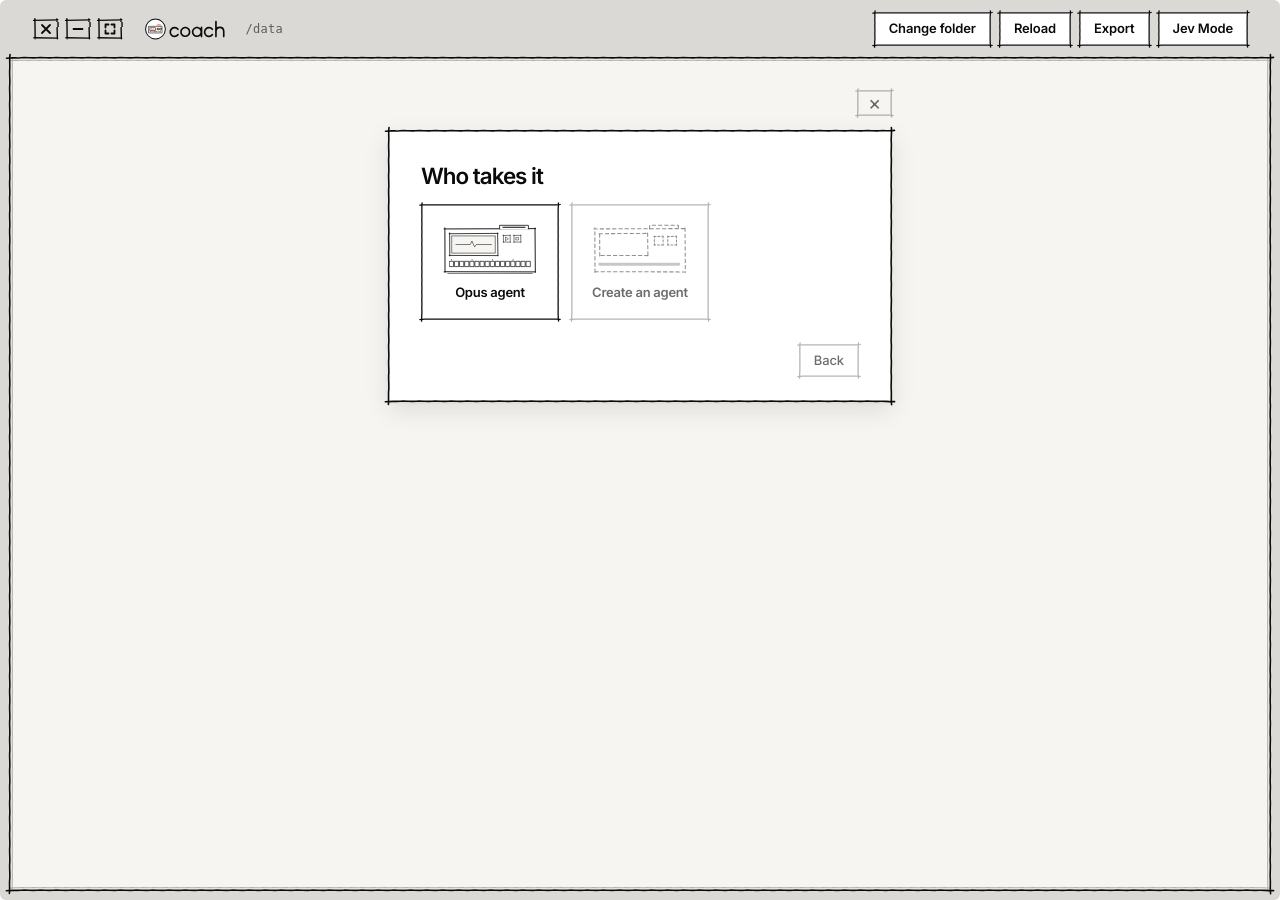
TestDeck › Copy snapshots this machine and the agent's memory into the waiting test
This screenshot has width=1280, height=900.
Click the button "Opus agent" at (490, 262), box [421,204,559,320]
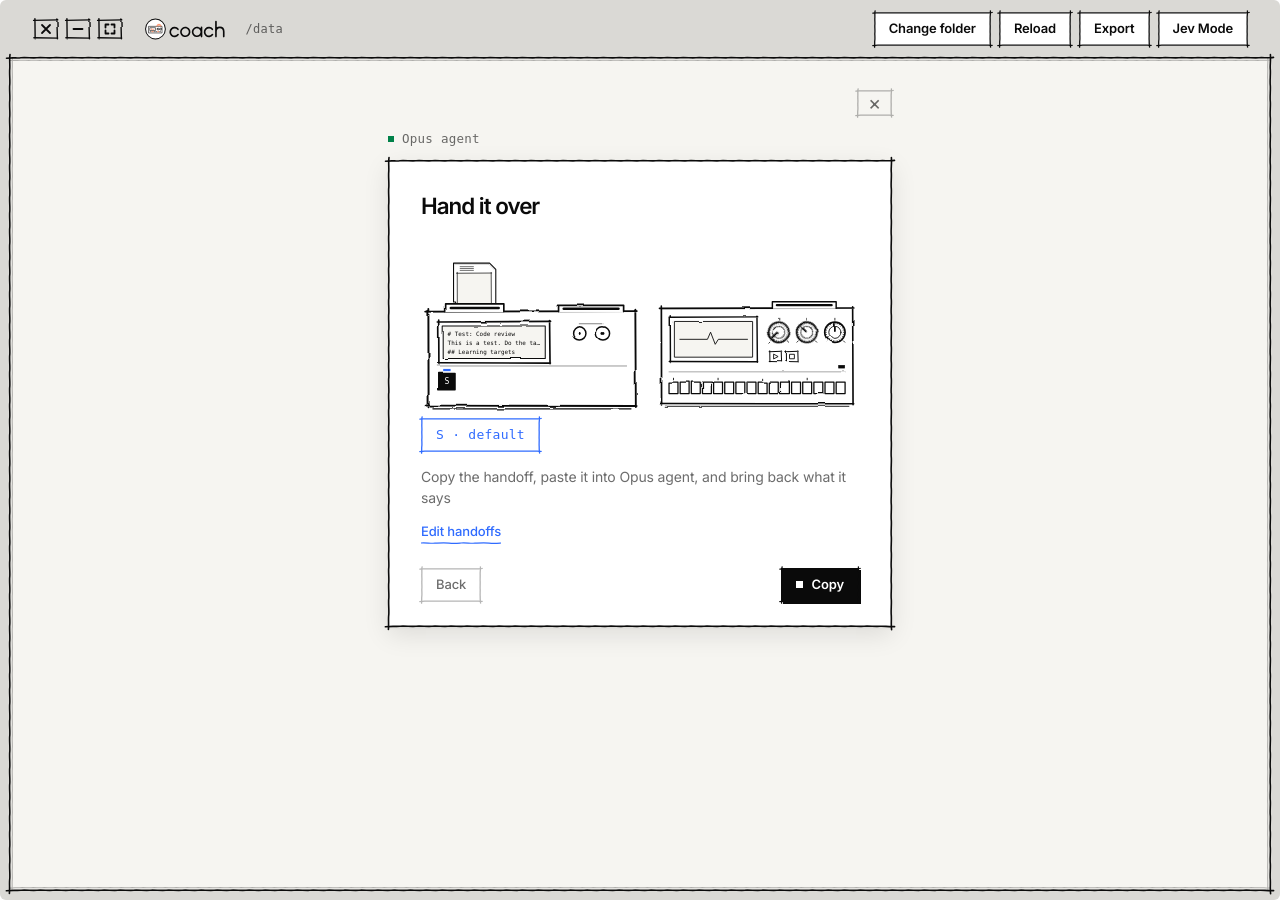
Now the heading "Hand it over" is shown, box [421,192,539,219]
Click the button "Copy" at (820, 585), box [780,568,859,602]
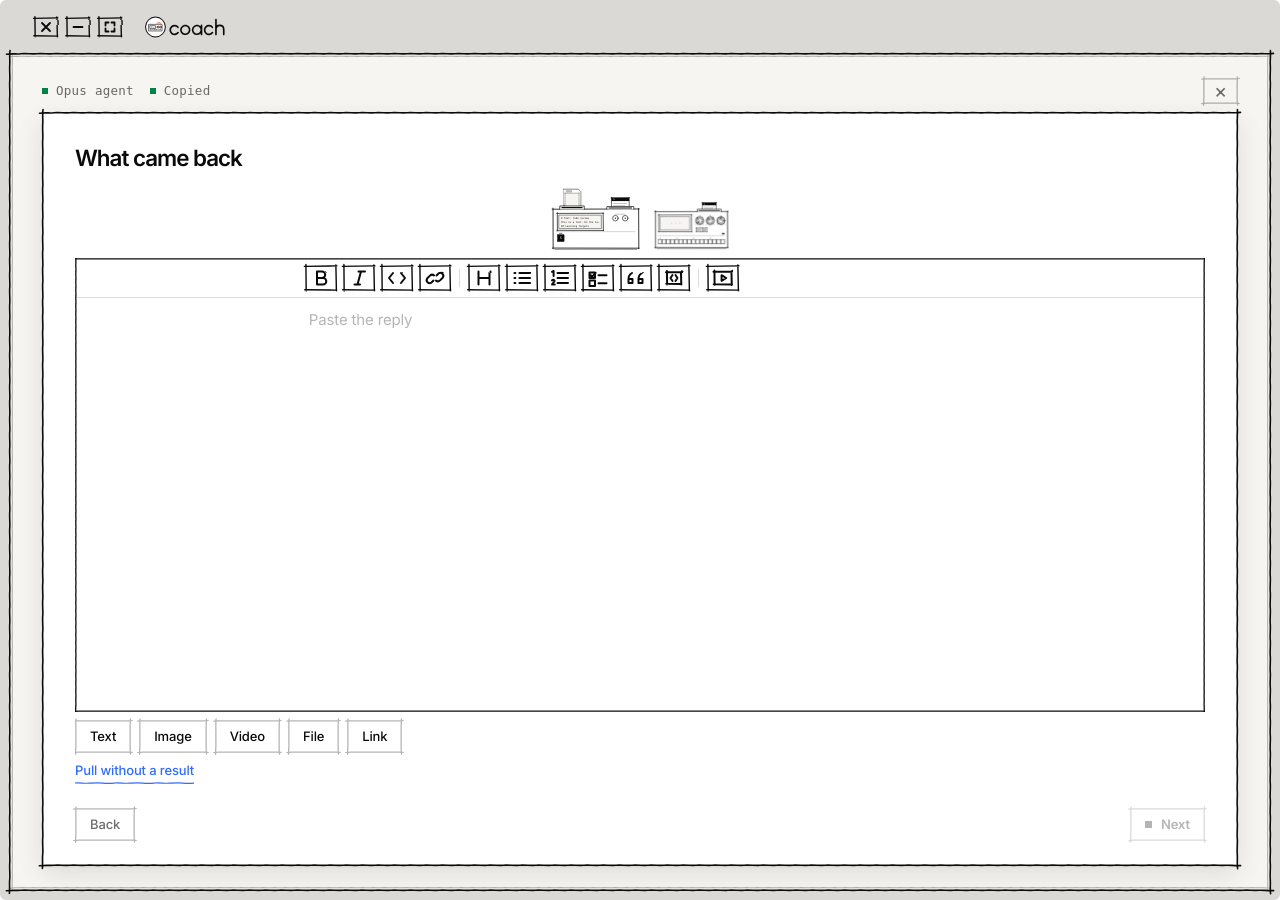
Now the heading "What came back" is shown, box [75,144,242,171]
